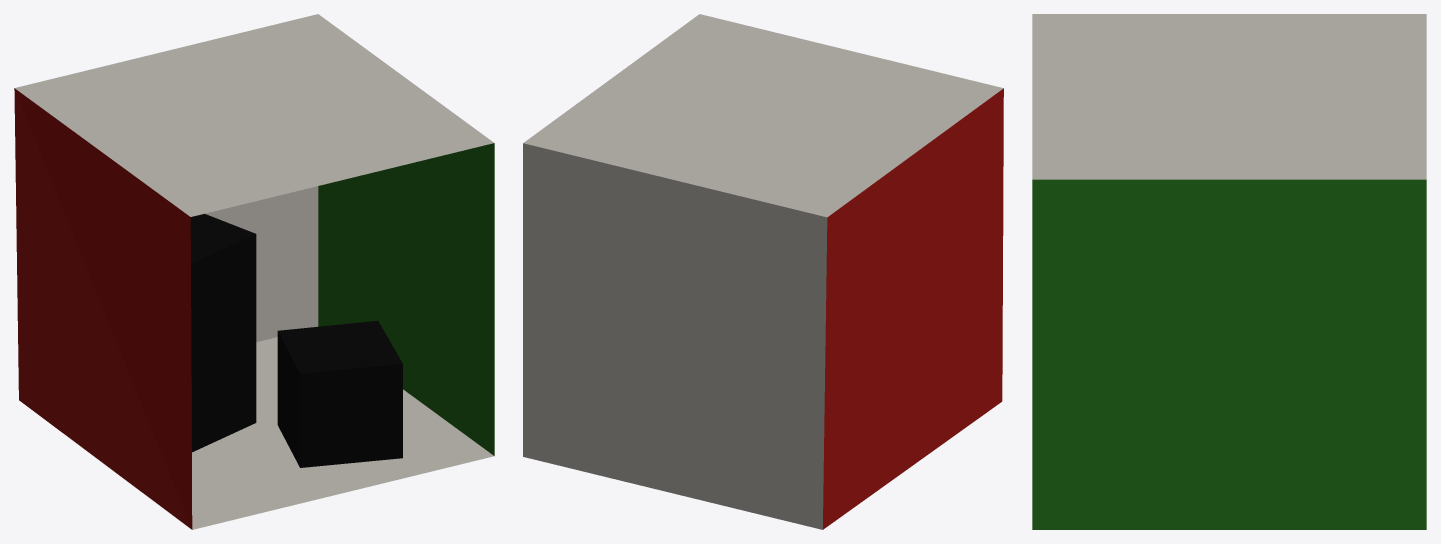
Rendered from CornellBox-Mirror.obj.
The picture shows the model from 3 angles, left to right: view 1: azimuth 30°, elevation 25°; view 2: azimuth 150°, elevation 25°; view 3: azimuth 270°, elevation 25°; orthographic projection. The views are drawn at different scales.
Visible parts, largest first — view 1: leftWall, ceiling, rightWall, floor, shortBox, backWall; view 2: backWall, leftWall, ceiling; view 3: rightWall, ceiling.
Part boxes in pixels (box(x1,y1,x2,y2)): leftWall: box(14, 88, 402, 529); ceiling: box(15, 14, 493, 216); rightWall: box(318, 143, 494, 455); floor: box(192, 337, 493, 529); shortBox: box(190, 213, 256, 452); backWall: box(205, 186, 318, 342); backWall: box(523, 143, 827, 529); leftWall: box(823, 88, 1003, 529); ceiling: box(523, 14, 1003, 217); rightWall: box(1032, 179, 1426, 529); ceiling: box(1032, 14, 1426, 179).
Size of the model in its own units: 2.02 by 1.99 by 2.03.
